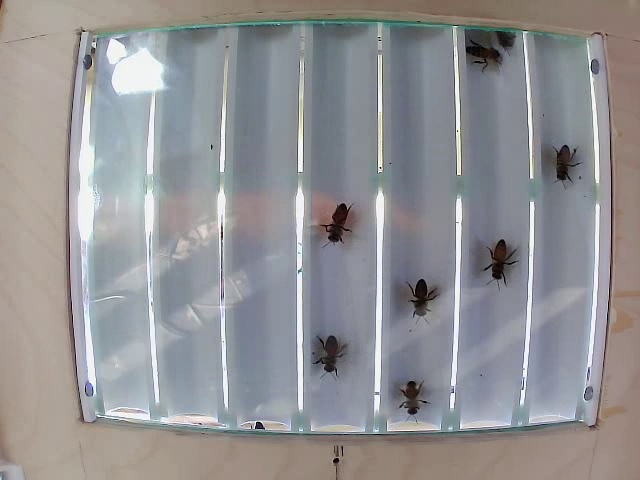bee: (323, 196, 358, 247), (402, 373, 430, 427), (547, 143, 581, 181), (462, 43, 506, 72), (310, 339, 341, 380), (491, 242, 513, 295), (413, 270, 439, 313)
